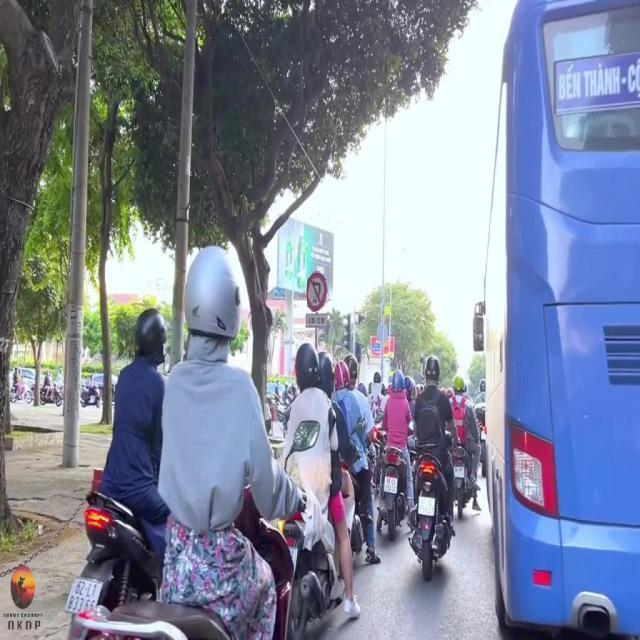123a-cam-re-trai: (306, 271, 326, 311)
